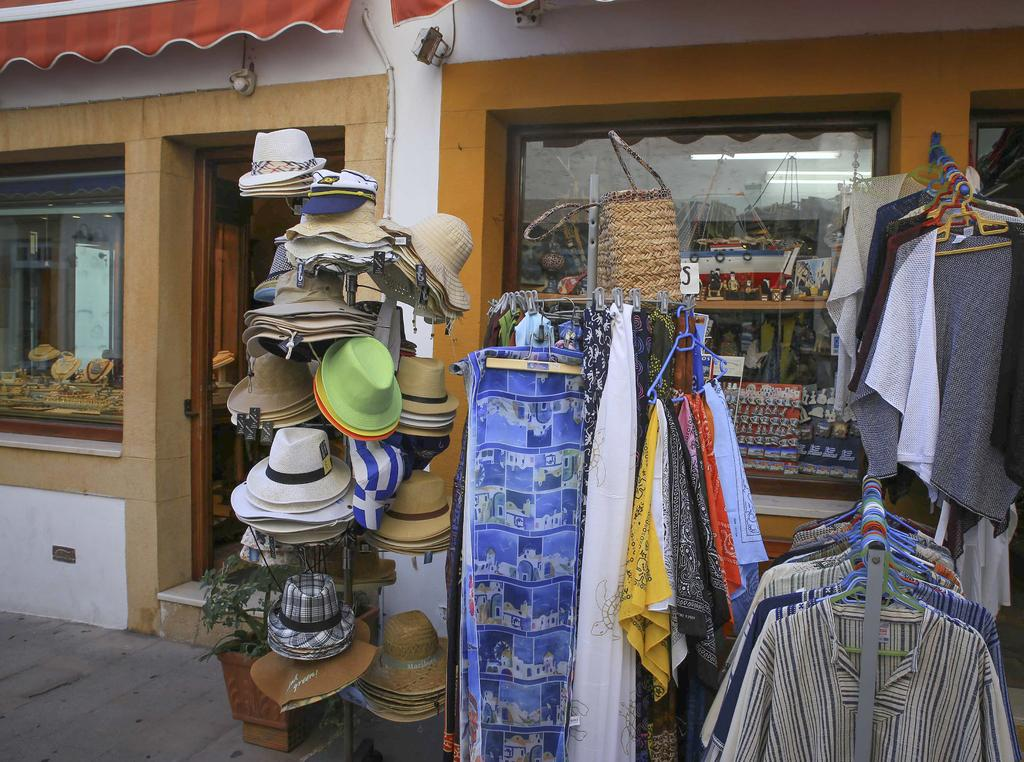Hat: (224, 124, 461, 724)
